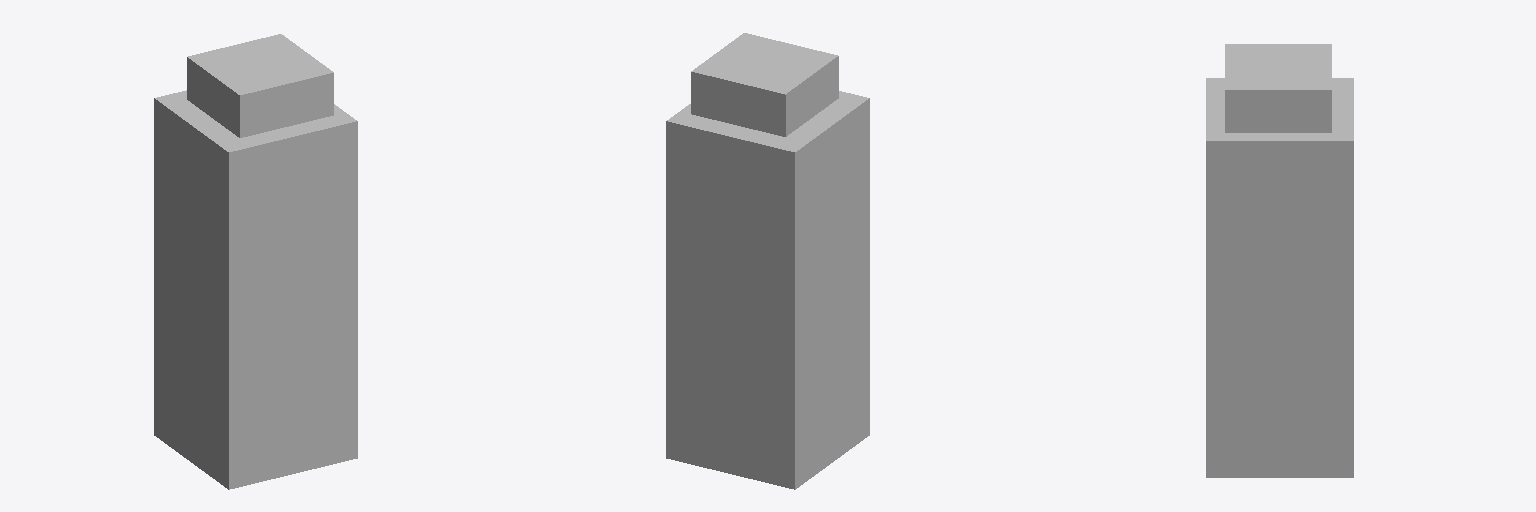
Rendered from lift.obj.
3 renders of one model, left to right at view 1: azimuth 30°, elevation 25°; view 2: azimuth 150°, elevation 25°; view 3: azimuth 270°, elevation 25°, orthographic.
Parts seen in each view (by area): view 1: Box001, Box002; view 2: Box001, Box002; view 3: Box001, Box002.
Part boxes in pixels (left/top/right/bottom): Box001: left=154, top=90, right=357, bottom=489; Box002: left=187, top=34, right=333, bottom=137; Box001: left=666, top=91, right=869, bottom=489; Box002: left=691, top=33, right=838, bottom=136; Box001: left=1206, top=78, right=1353, bottom=477; Box002: left=1225, top=44, right=1331, bottom=132.
Bounding box in the file's own units: 39.37 × 111 × 39.37.